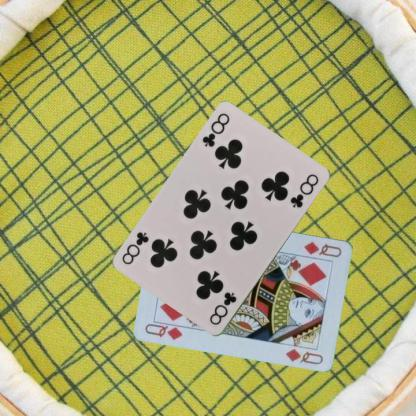8c: (199, 110, 231, 149), (207, 289, 238, 327)
Qd: (143, 318, 188, 341), (302, 239, 343, 258)
